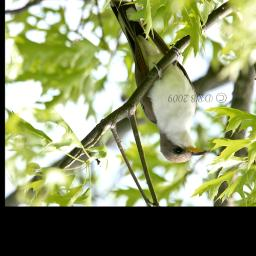Cuckoo: (110, 0, 208, 165)
